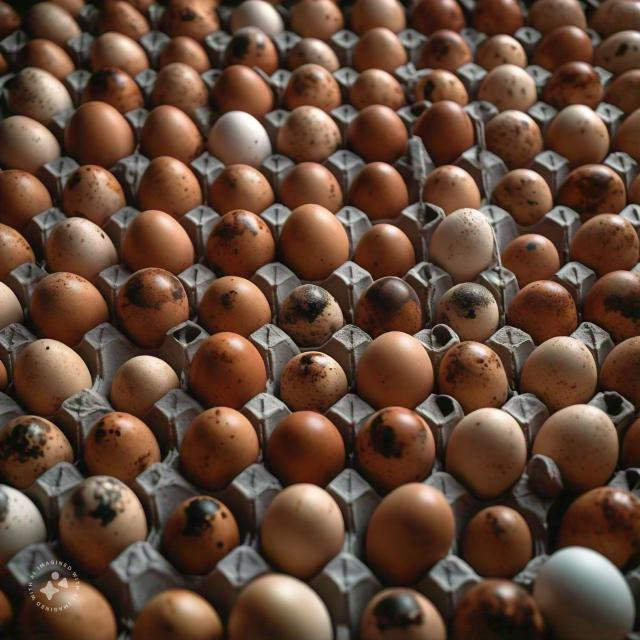Dirt Stained Egg: (23, 9, 563, 596)
